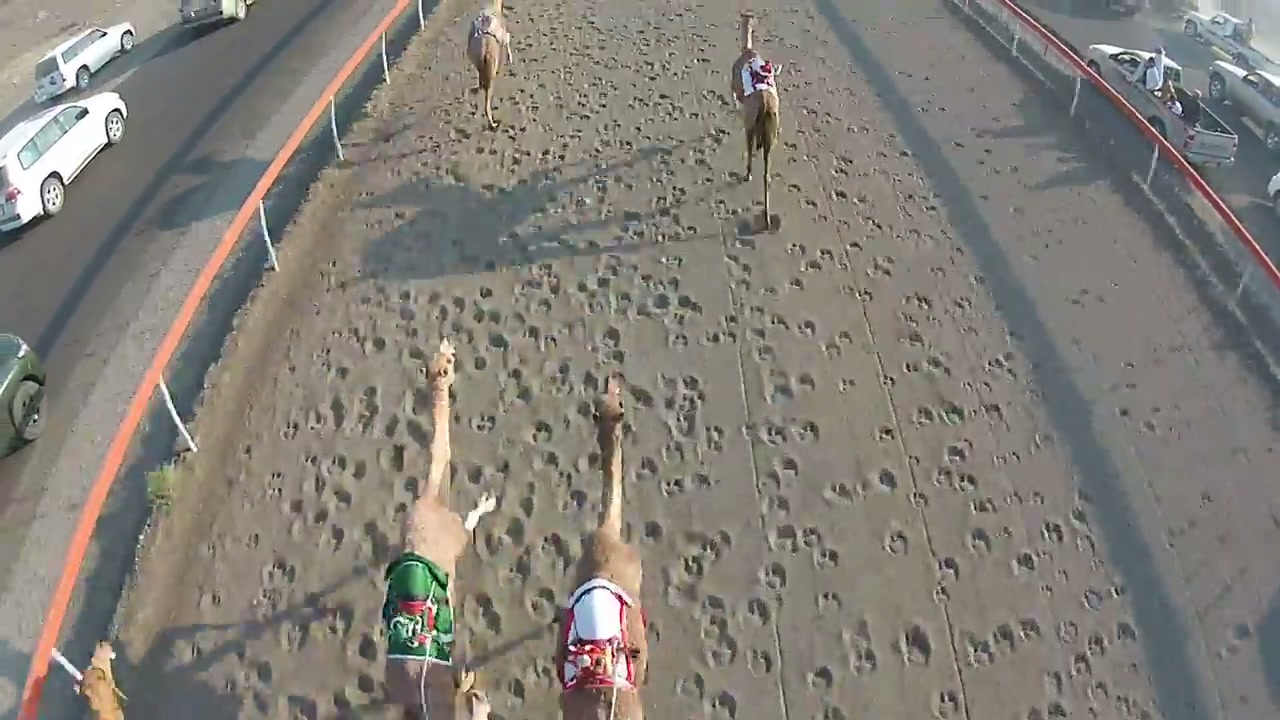animal_footprint: (120, 0, 1152, 719), (738, 223, 957, 716), (662, 530, 732, 603), (694, 595, 739, 668), (767, 523, 838, 568), (841, 619, 879, 677), (895, 623, 933, 665)
